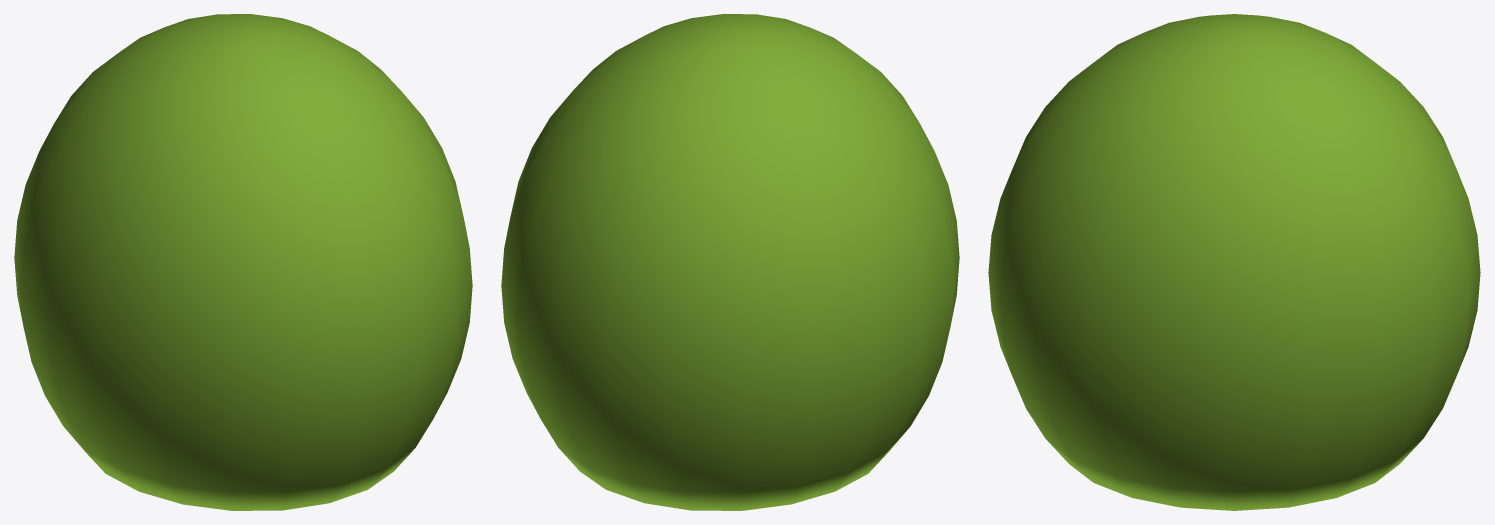
File: bush3.fbx
3 renders of one model, left to right at view 1: azimuth 30°, elevation 25°; view 2: azimuth 150°, elevation 25°; view 3: azimuth 270°, elevation 25°, orthographic.
Visible parts, largest first — view 1: pSphere1; view 2: pSphere1; view 3: pSphere1.
Boxes of the visible parts, x1,y1,x2,y2 form: pSphere1: [14, 14, 472, 510]; pSphere1: [501, 14, 959, 510]; pSphere1: [988, 14, 1480, 510].
Bounding box in the file's own units: 4.74 × 4.79 × 5.13.
